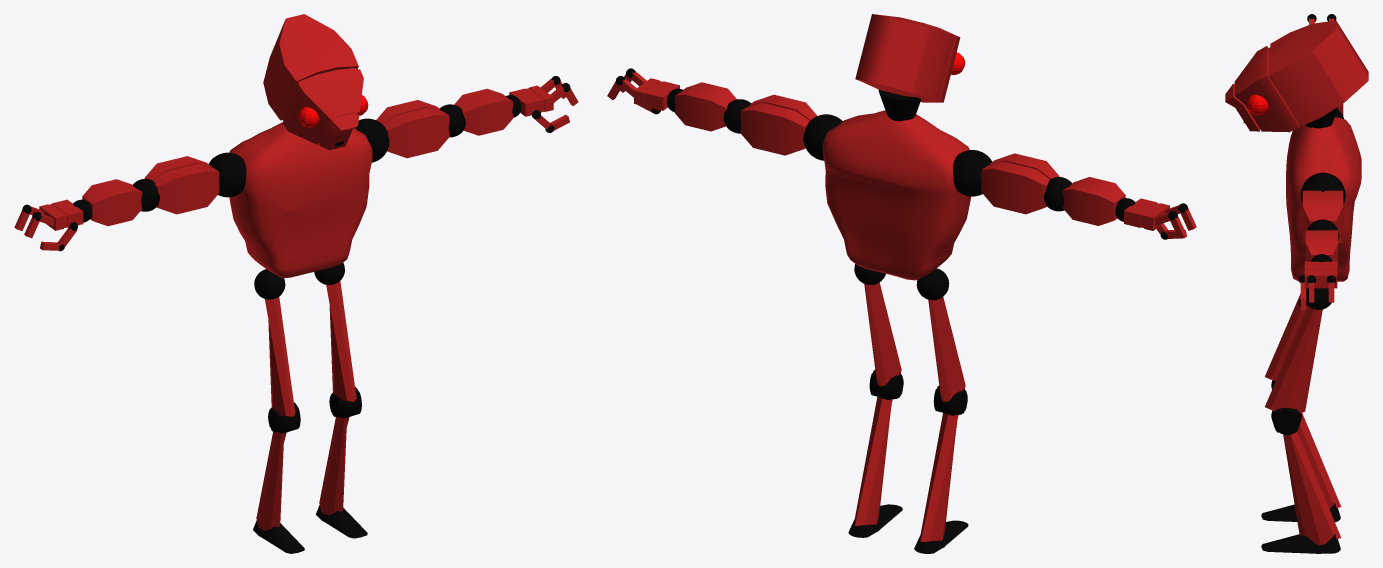
3 views of the same model, side by side, from view 1: azimuth 30°, elevation 25°; view 2: azimuth 150°, elevation 25°; view 3: azimuth 270°, elevation 25° (orthographic). The views are drawn at different scales.
Parts seen in each view (by area): view 1: Torso, Cabeza, BrazoD, BrazoL, MusloD, MusloL, AntebrazoD, AntebrazoL, PiernaD1, PiernaL1, PieL (×2), HombroD (+4 smaller); view 2: Torso, Cabeza, BrazoD, BrazoL, PiernaD1, PiernaL1, AntebrazoD, AntebrazoL, MusloD, MusloL, PieL (×2), HombroD (+5 smaller); view 3: Cabeza, Torso, PiernaL1, MusloL, PieL (×2), BrazoL, PiernaD1, MusloD, AntebrazoL, PalmaL, RodillaL, HombroL (+4 smaller).
Part boxes in pixels (bbox=[...]): Torso: bbox=[229, 122, 372, 277]; Cabeza: bbox=[263, 14, 363, 150]; BrazoD: bbox=[144, 156, 219, 214]; BrazoL: bbox=[376, 100, 449, 158]; MusloD: bbox=[264, 297, 295, 416]; MusloL: bbox=[326, 281, 356, 401]; AntebrazoD: bbox=[82, 179, 142, 226]; AntebrazoL: bbox=[454, 88, 513, 135]; PiernaD1: bbox=[256, 432, 286, 530]; PiernaL1: bbox=[319, 417, 349, 515]; PieL (×2): bbox=[253, 505, 367, 553]; HombroD: bbox=[209, 152, 246, 197]; Torso: bbox=[822, 110, 970, 280]; Cabeza: bbox=[855, 14, 960, 102]; BrazoD: bbox=[981, 153, 1059, 214]; BrazoL: bbox=[740, 94, 816, 155]; PiernaD1: bbox=[920, 413, 958, 541]; PiernaL1: bbox=[854, 396, 892, 525]; AntebrazoD: bbox=[1062, 177, 1125, 225]; AntebrazoL: bbox=[675, 82, 736, 131]; MusloD: bbox=[928, 297, 965, 401]; MusloL: bbox=[864, 282, 901, 386]; PieL (×2): bbox=[848, 504, 968, 553]; HombroD: bbox=[953, 150, 992, 196]; Cabeza: bbox=[1225, 20, 1368, 132]; Torso: bbox=[1286, 117, 1361, 281]; PiernaL1: bbox=[1283, 431, 1341, 545]; MusloL: bbox=[1265, 306, 1322, 413]; PieL (×2): bbox=[1261, 503, 1340, 553]; BrazoL: bbox=[1302, 190, 1343, 242]; PiernaD1: bbox=[1297, 413, 1341, 508]; MusloD: bbox=[1265, 294, 1307, 380]; AntebrazoL: bbox=[1305, 230, 1338, 272]; PalmaL: bbox=[1304, 261, 1337, 288]; RodillaL: bbox=[1271, 407, 1301, 435]; HombroL: bbox=[1300, 172, 1345, 204].
Size of the model in its own units: 215 by 187 by 47.72.
